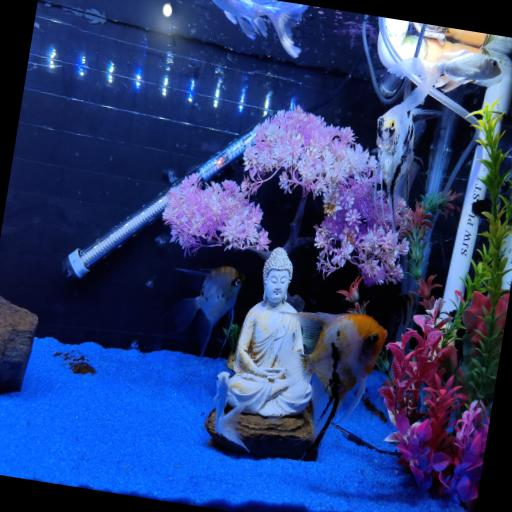Fish: (279, 313, 386, 440), (377, 104, 441, 246), (388, 50, 500, 110), (173, 267, 244, 356), (212, 0, 307, 58), (211, 372, 248, 451), (424, 24, 448, 45)
